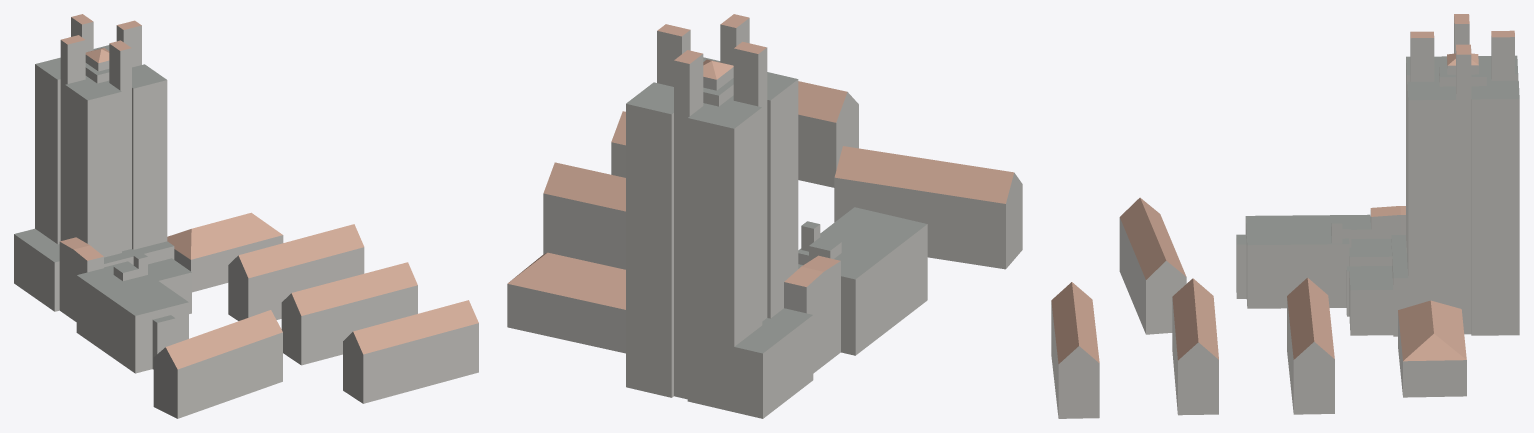
The model's file is gridID_87.dae.
3 renders of one model, left to right at view 1: azimuth 30°, elevation 25°; view 2: azimuth 150°, elevation 25°; view 3: azimuth 270°, elevation 25°, orthographic. The views are drawn at different scales.
Visible parts, largest first — view 1: model_gridID_87_w383794187_001, model_gridID_87_w389187923_001, model_gridID_87_w383801388_001, model_gridID_87_w383801378, model_gridID_87_w383801393, model_gridID_87_w383801386, model_gridID_87_w383801383, model_gridID_87_w389187926, model_gridID_87_w389187923; view 2: model_gridID_87_w383794187_001, model_gridID_87_w383801378, model_gridID_87_w389187923_001, model_gridID_87_w383801383, model_gridID_87_w383801386, model_gridID_87_w389187926, model_gridID_87_w383801388_001, model_gridID_87_w389187923, model_gridID_87_w383801393; view 3: model_gridID_87_w383794187_001, model_gridID_87_w389187923_001, model_gridID_87_w383801378, model_gridID_87_w383801383, model_gridID_87_w383801388_001, model_gridID_87_w383801386, model_gridID_87_w383801393, model_gridID_87_w389187923.
Boxes of the visible parts, x1,y1,x2,y2 form: model_gridID_87_w383794187_001: (35, 14, 167, 257); model_gridID_87_w389187923_001: (76, 241, 191, 373); model_gridID_87_w383801388_001: (343, 300, 478, 403); model_gridID_87_w383801378: (153, 310, 282, 418); model_gridID_87_w383801393: (281, 262, 417, 365); model_gridID_87_w383801386: (228, 224, 364, 320); model_gridID_87_w383801383: (167, 212, 283, 292); model_gridID_87_w389187926: (14, 228, 59, 311); model_gridID_87_w389187923: (59, 237, 103, 321); model_gridID_87_w383794187_001: (626, 14, 798, 411); model_gridID_87_w383801378: (834, 146, 1022, 269); model_gridID_87_w389187923_001: (798, 207, 927, 355); model_gridID_87_w383801383: (507, 252, 625, 353); model_gridID_87_w383801386: (543, 162, 625, 269); model_gridID_87_w389187926: (734, 308, 813, 418); model_gridID_87_w383801388_001: (798, 81, 858, 187); model_gridID_87_w389187923: (784, 255, 840, 373); model_gridID_87_w383801393: (611, 111, 625, 177); model_gridID_87_w383794187_001: (1406, 14, 1519, 335); model_gridID_87_w389187923_001: (1236, 214, 1408, 336); model_gridID_87_w383801378: (1119, 197, 1186, 334); model_gridID_87_w383801383: (1398, 300, 1466, 397); model_gridID_87_w383801388_001: (1051, 282, 1099, 418); model_gridID_87_w383801386: (1287, 277, 1334, 414); model_gridID_87_w383801393: (1172, 278, 1218, 415); model_gridID_87_w389187923: (1370, 206, 1405, 238).
Size of the model in its own units: 88.81 by 117 by 77.
